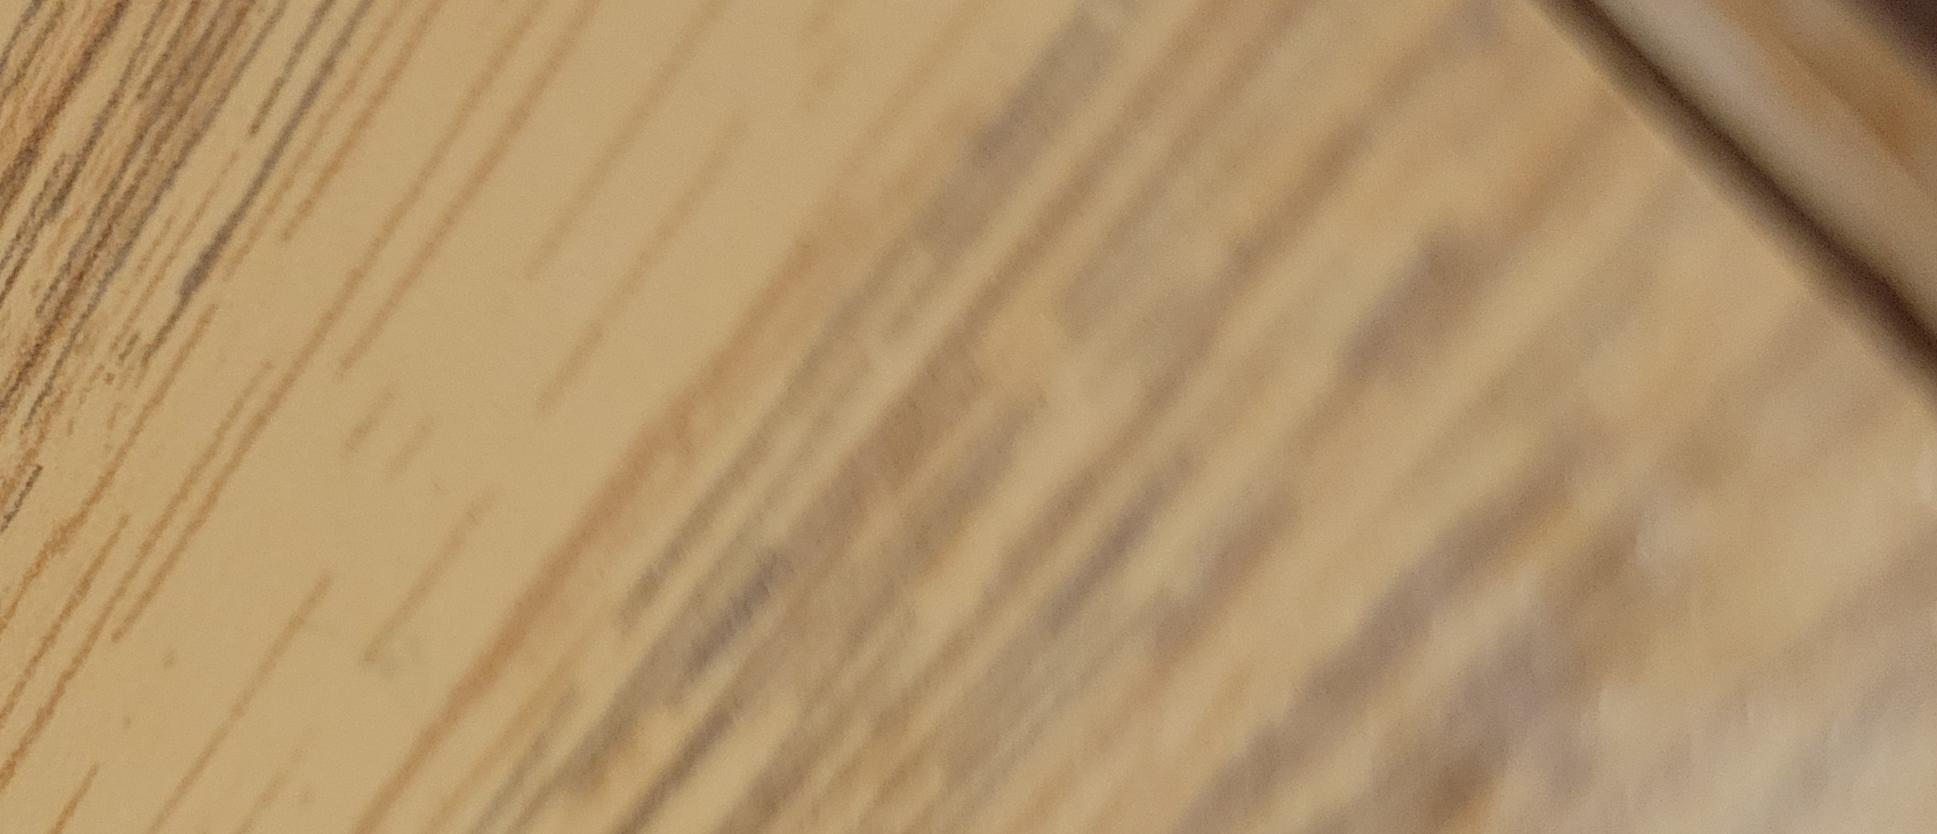Chip: (1, 203, 950, 834)
